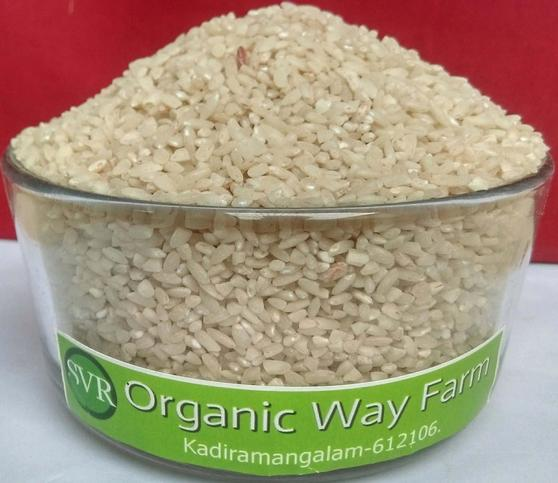rice: (48, 4, 535, 252)
